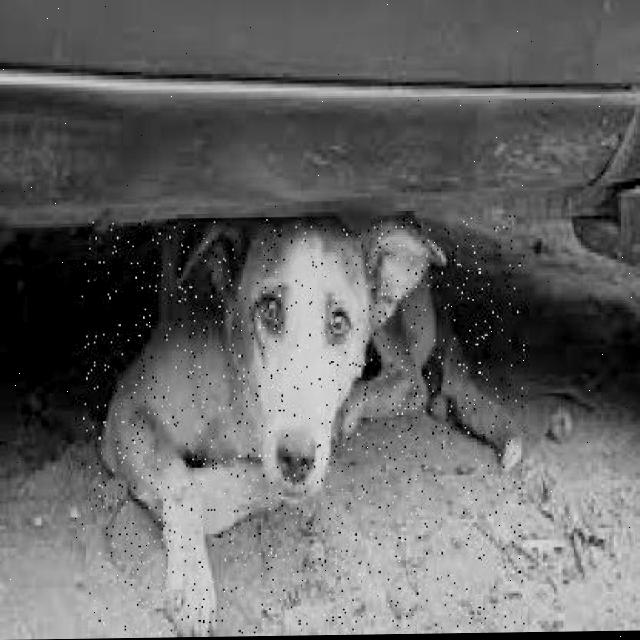Dog: (82, 215, 526, 638)
